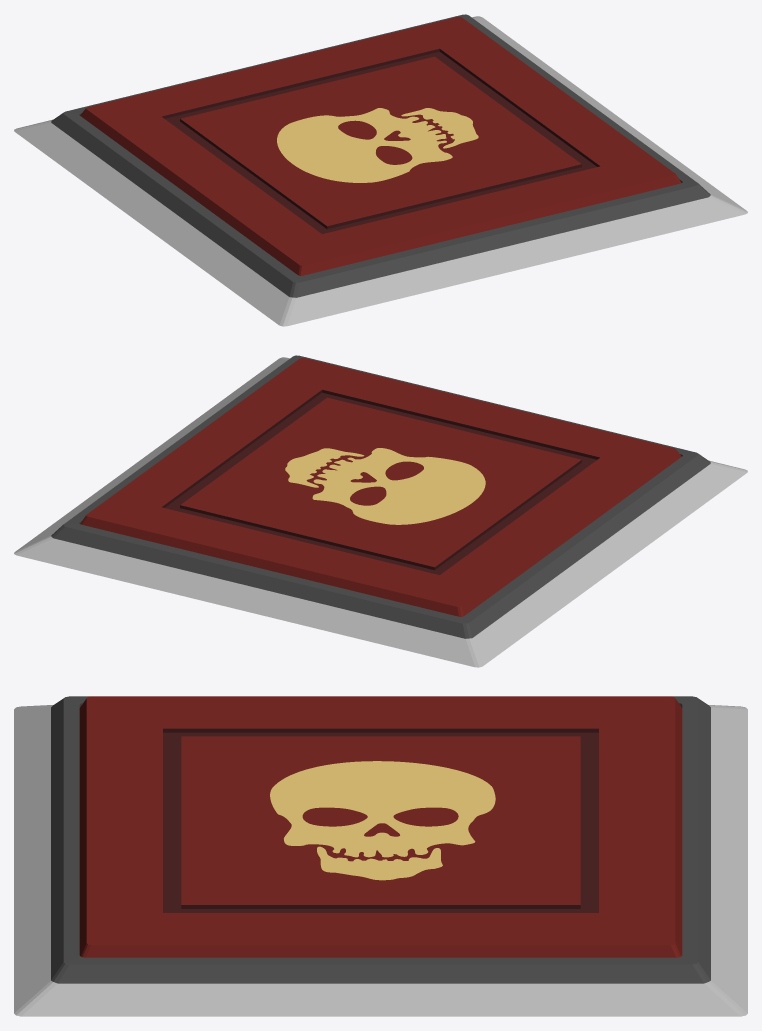
File: SquarePressurePlateSkull.fbx
3 views of the same model, one above another, from view 1: azimuth 30°, elevation 25°; view 2: azimuth 150°, elevation 25°; view 3: azimuth 270°, elevation 25° (orthographic). The views are drawn at different scales.
Parts seen in each view (by area): view 1: Square_Pressure_Plate_With_Skull_Sign, Square_Pressure_Plate_With_Skull_Sign_Base; view 2: Square_Pressure_Plate_With_Skull_Sign, Square_Pressure_Plate_With_Skull_Sign_Base; view 3: Square_Pressure_Plate_With_Skull_Sign, Square_Pressure_Plate_With_Skull_Sign_Base.
Part boxes in pixels (x1,y1,x2,y2): Square_Pressure_Plate_With_Skull_Sign: (80, 17, 681, 275); Square_Pressure_Plate_With_Skull_Sign_Base: (14, 14, 747, 326); Square_Pressure_Plate_With_Skull_Sign: (80, 358, 681, 616); Square_Pressure_Plate_With_Skull_Sign_Base: (14, 355, 747, 667); Square_Pressure_Plate_With_Skull_Sign: (79, 696, 682, 957); Square_Pressure_Plate_With_Skull_Sign_Base: (14, 696, 747, 1016).
Bounding box in the file's own units: 202 × 12.46 × 202.
